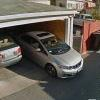Car: (19, 24, 93, 89)
